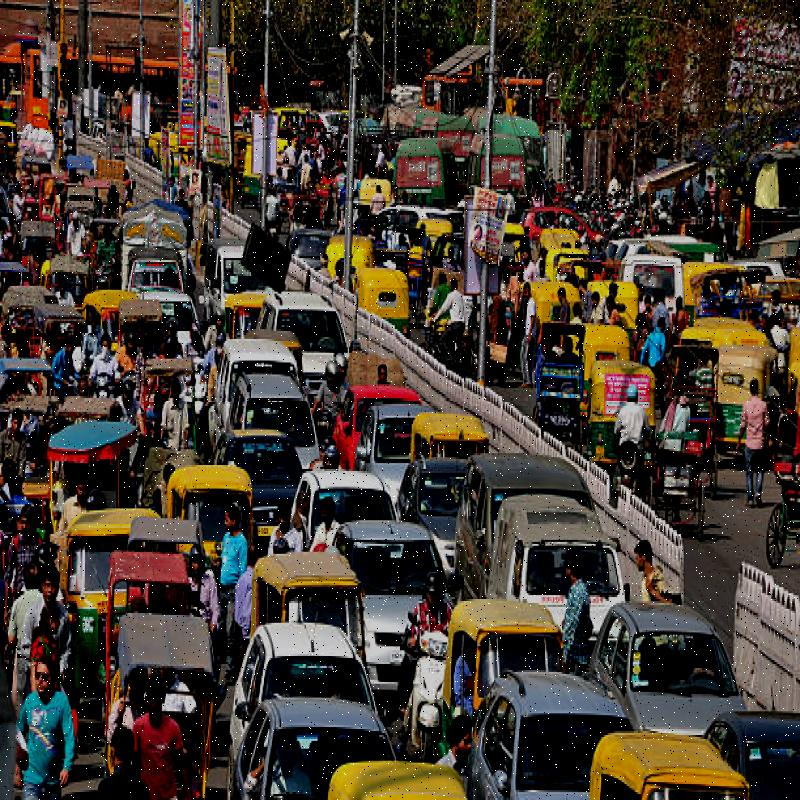auto: (36, 489, 133, 690), (439, 598, 558, 732), (172, 457, 261, 570), (578, 350, 662, 450), (403, 408, 486, 476), (350, 259, 413, 324)
car: (351, 527, 449, 677), (255, 298, 358, 389)
